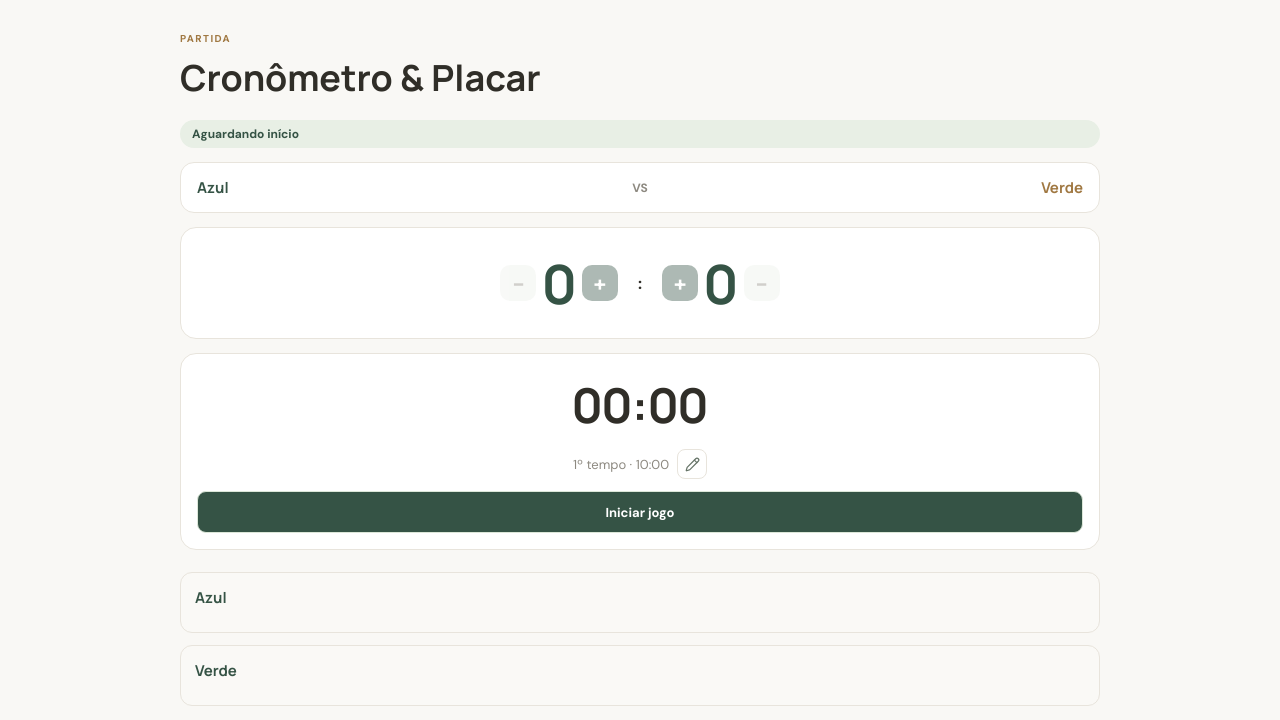
Test: edição da duração antes do início › cancela sem enviar alteração
The image size is (1280, 720).
Step 1. Click the button named "Editar duração do jogo" → x=692, y=464, box [677, 449, 707, 479]
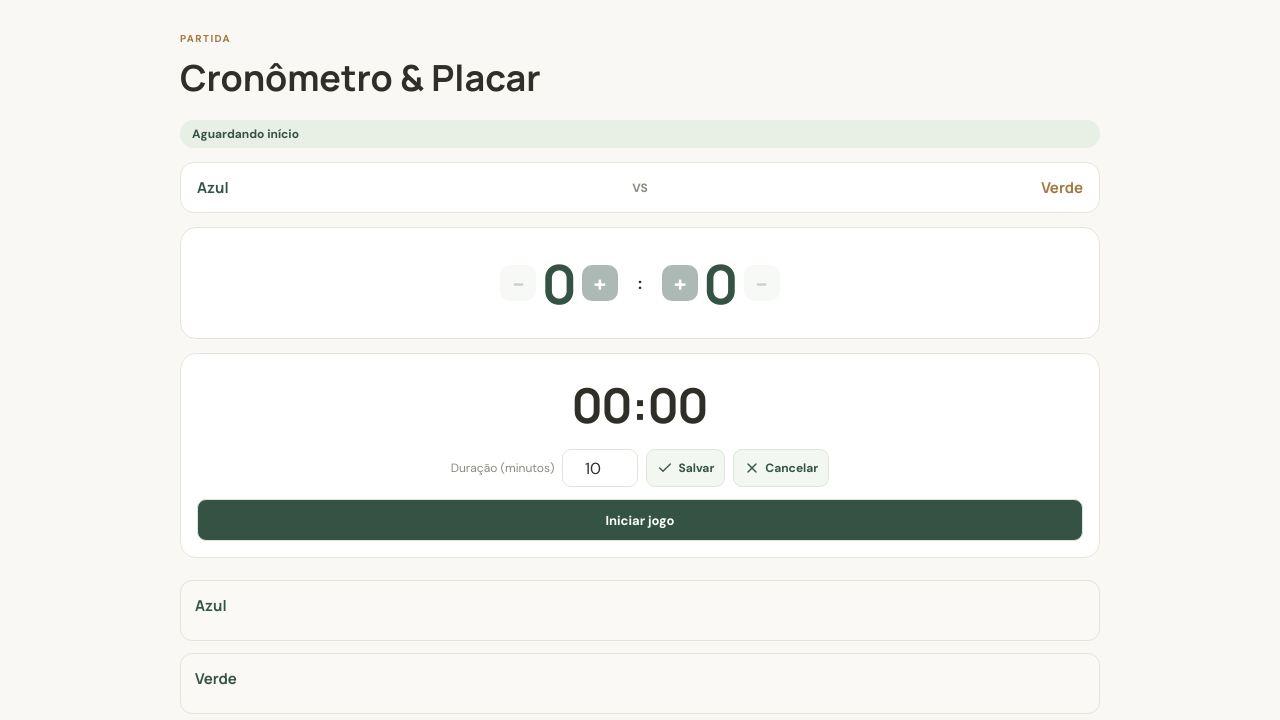
Step 2. Replace the text in the number field labelled "Duração (minutos)" with "15" → x=600, y=468, box [562, 449, 638, 487]
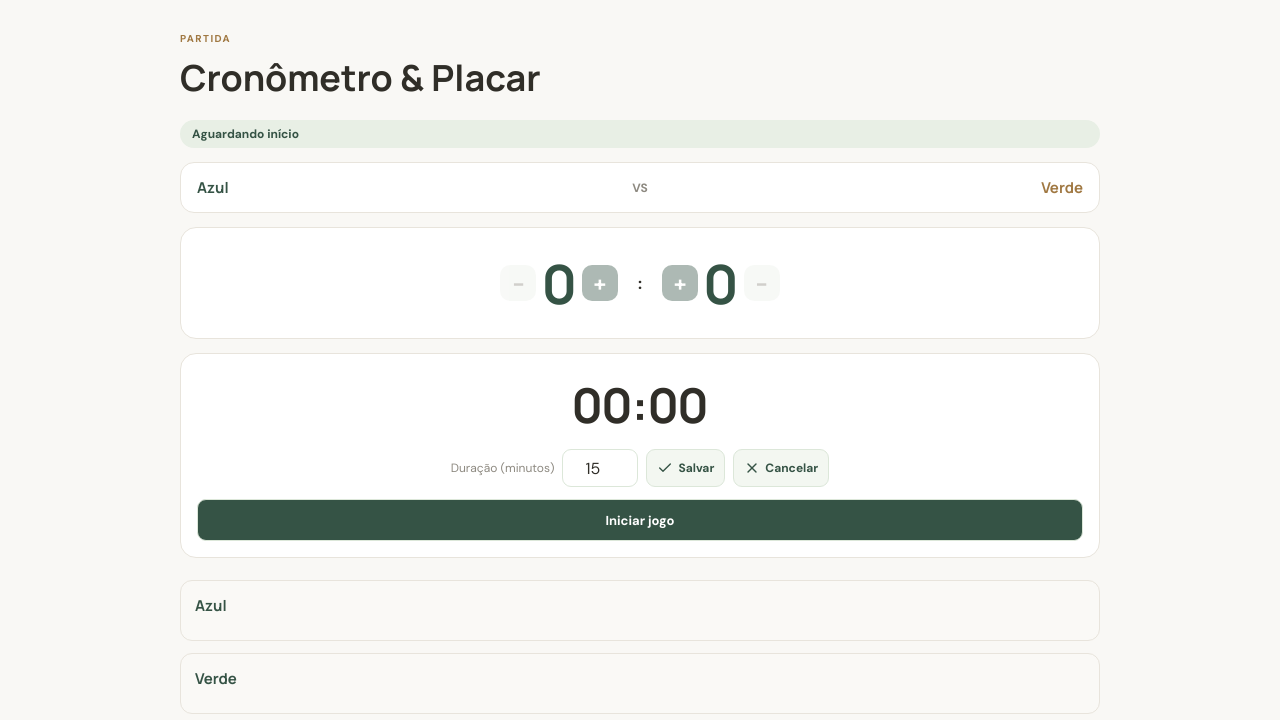
Step 3. Click the button with aria-label "Cancelar edição da duração" → x=781, y=468, box [733, 449, 829, 487]
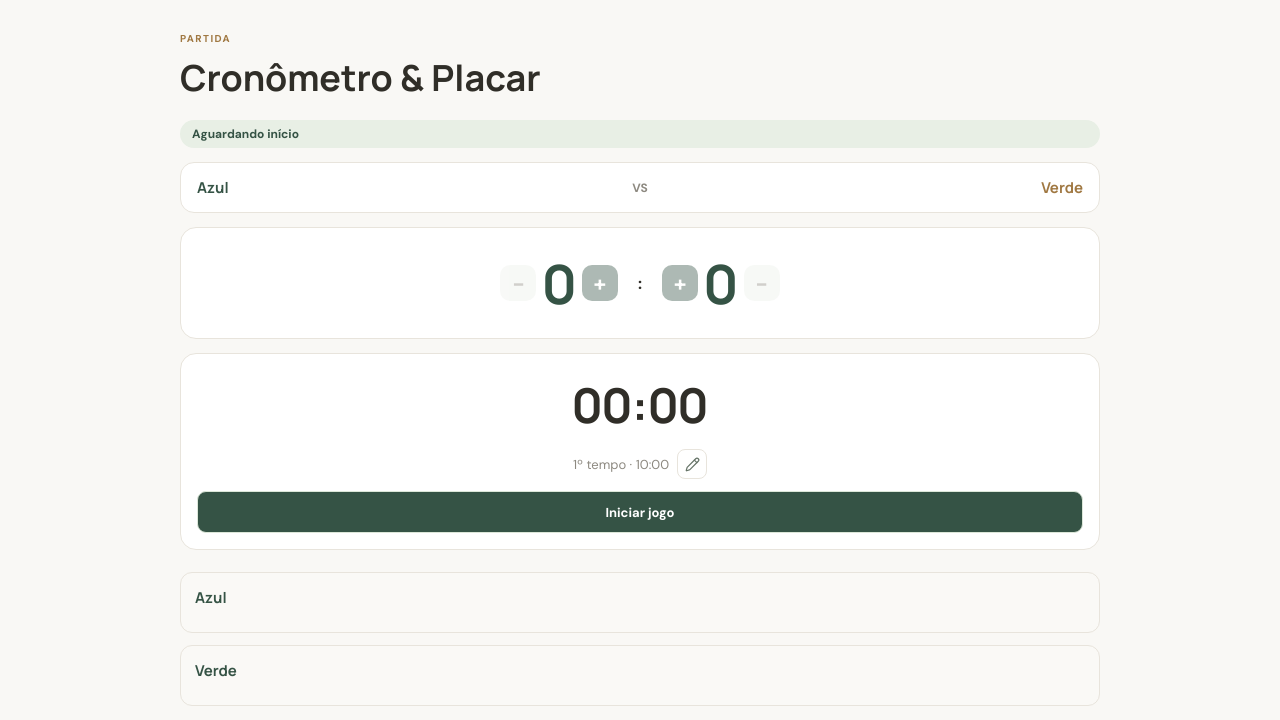
Check: the text named "Duração do jogo" reads "10", box [636, 456, 649, 472]
